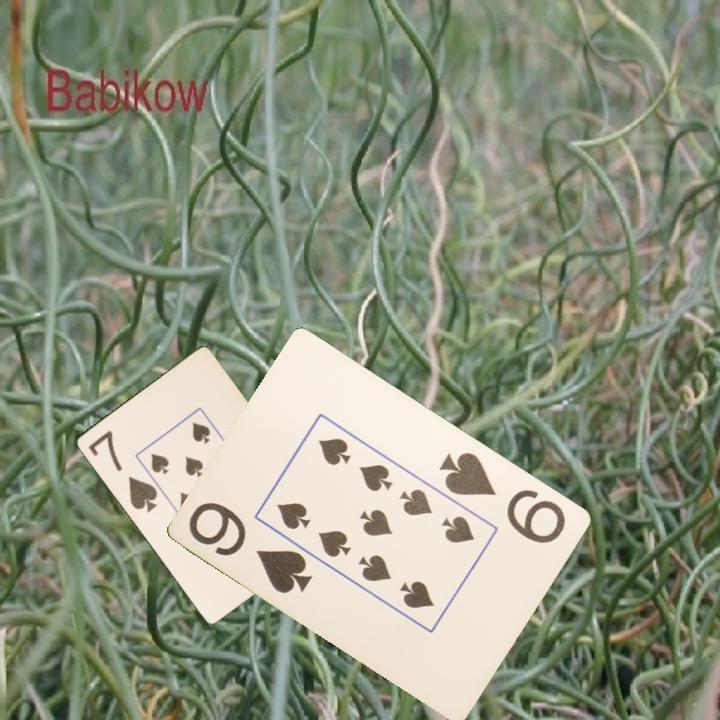7s: (84, 426, 160, 516)
9s: (436, 448, 570, 547), (185, 498, 316, 597)
